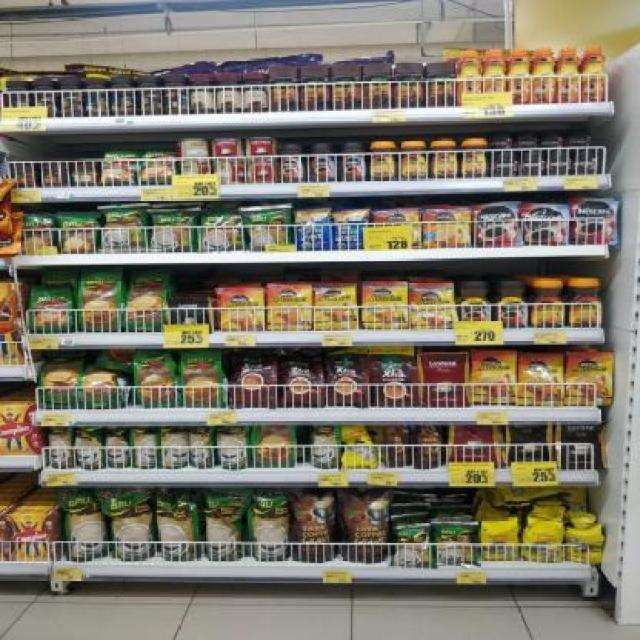Coffee: (517, 353, 565, 405), (565, 354, 612, 406), (471, 350, 515, 404), (364, 282, 408, 328), (410, 285, 454, 329), (269, 284, 311, 330), (218, 290, 264, 332), (572, 200, 616, 243), (315, 284, 356, 330), (475, 204, 520, 245), (424, 207, 468, 247), (524, 203, 564, 244), (531, 280, 566, 326), (569, 279, 602, 326), (496, 282, 529, 328), (457, 282, 492, 321), (583, 45, 605, 101), (458, 49, 479, 106), (557, 48, 578, 102), (459, 138, 487, 177), (486, 49, 505, 105), (308, 143, 335, 182), (533, 48, 552, 103), (510, 48, 528, 104), (368, 141, 394, 179), (432, 140, 458, 177), (342, 143, 367, 180), (401, 140, 425, 178), (279, 144, 303, 182), (493, 152, 518, 174), (574, 152, 600, 173), (522, 151, 544, 175), (548, 151, 569, 175), (568, 132, 592, 151), (541, 132, 562, 150), (516, 132, 535, 150), (491, 133, 512, 149)
